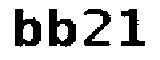1: (118, 6, 148, 52)
2: (81, 6, 113, 52)
b: (44, 6, 78, 51), (12, 8, 41, 46)
